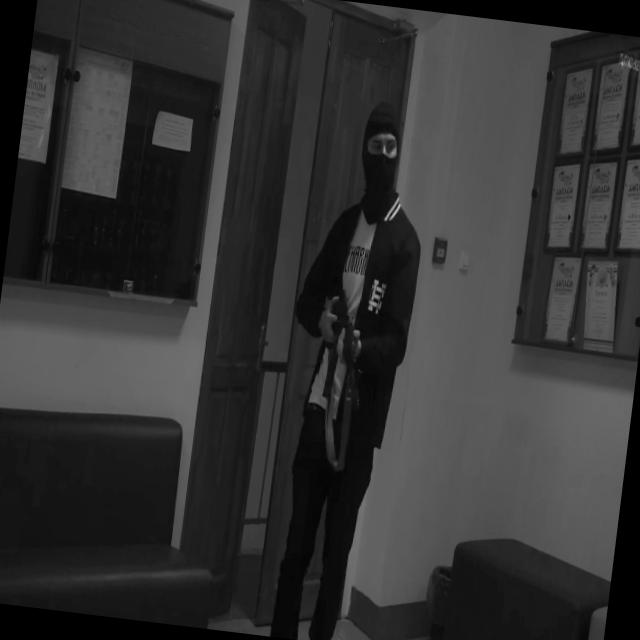gun: (308, 257, 378, 415)
person with a gun: (254, 93, 438, 640)
